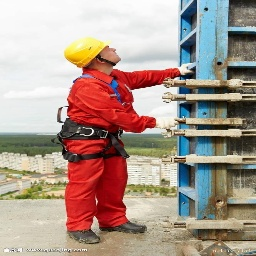helmet: (64, 38, 123, 67)
person: (59, 36, 167, 244)
vest: (66, 73, 154, 167)
